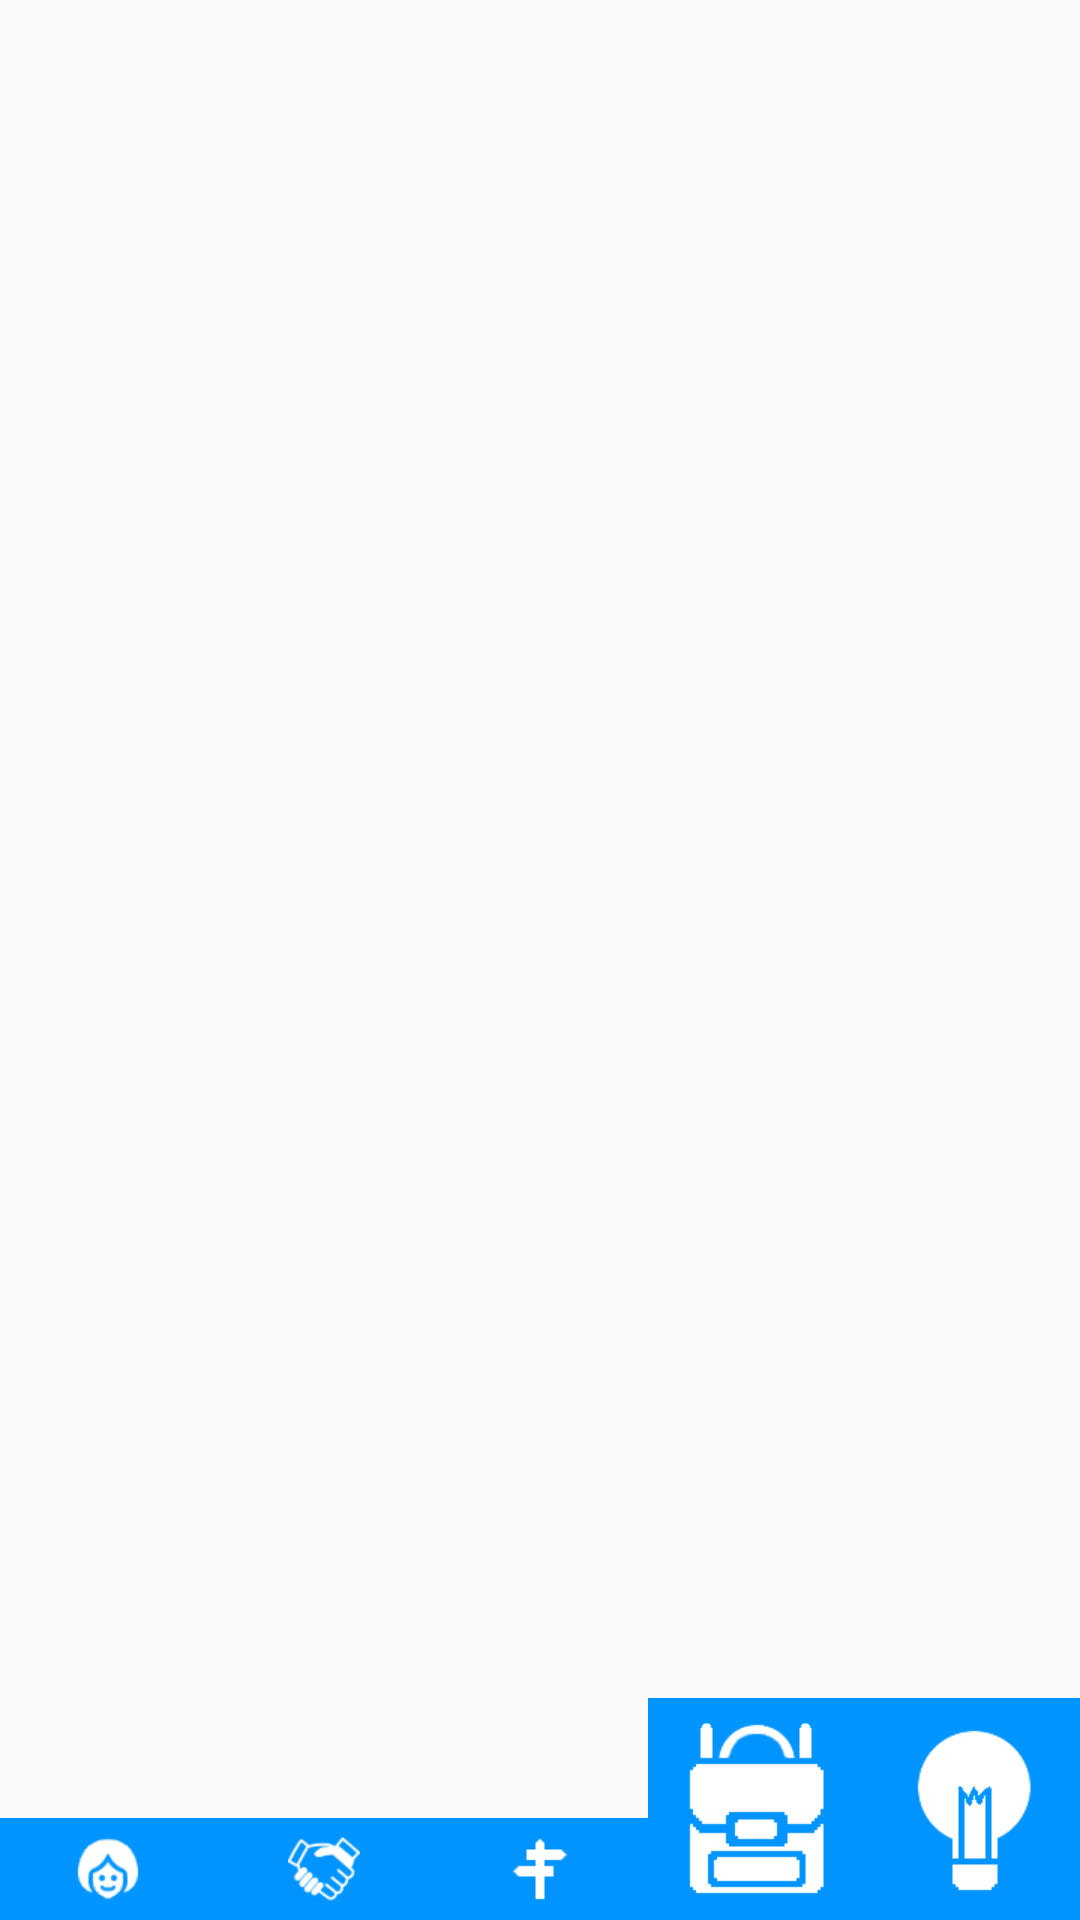

Screen size 1080 x 1920. Icon name, then its center in pixels as [x,y]:
Concepts: [974,1810]
Groups: [324,1869]
Items: [756,1808]
People: [108,1868]
Places: [540,1869]
